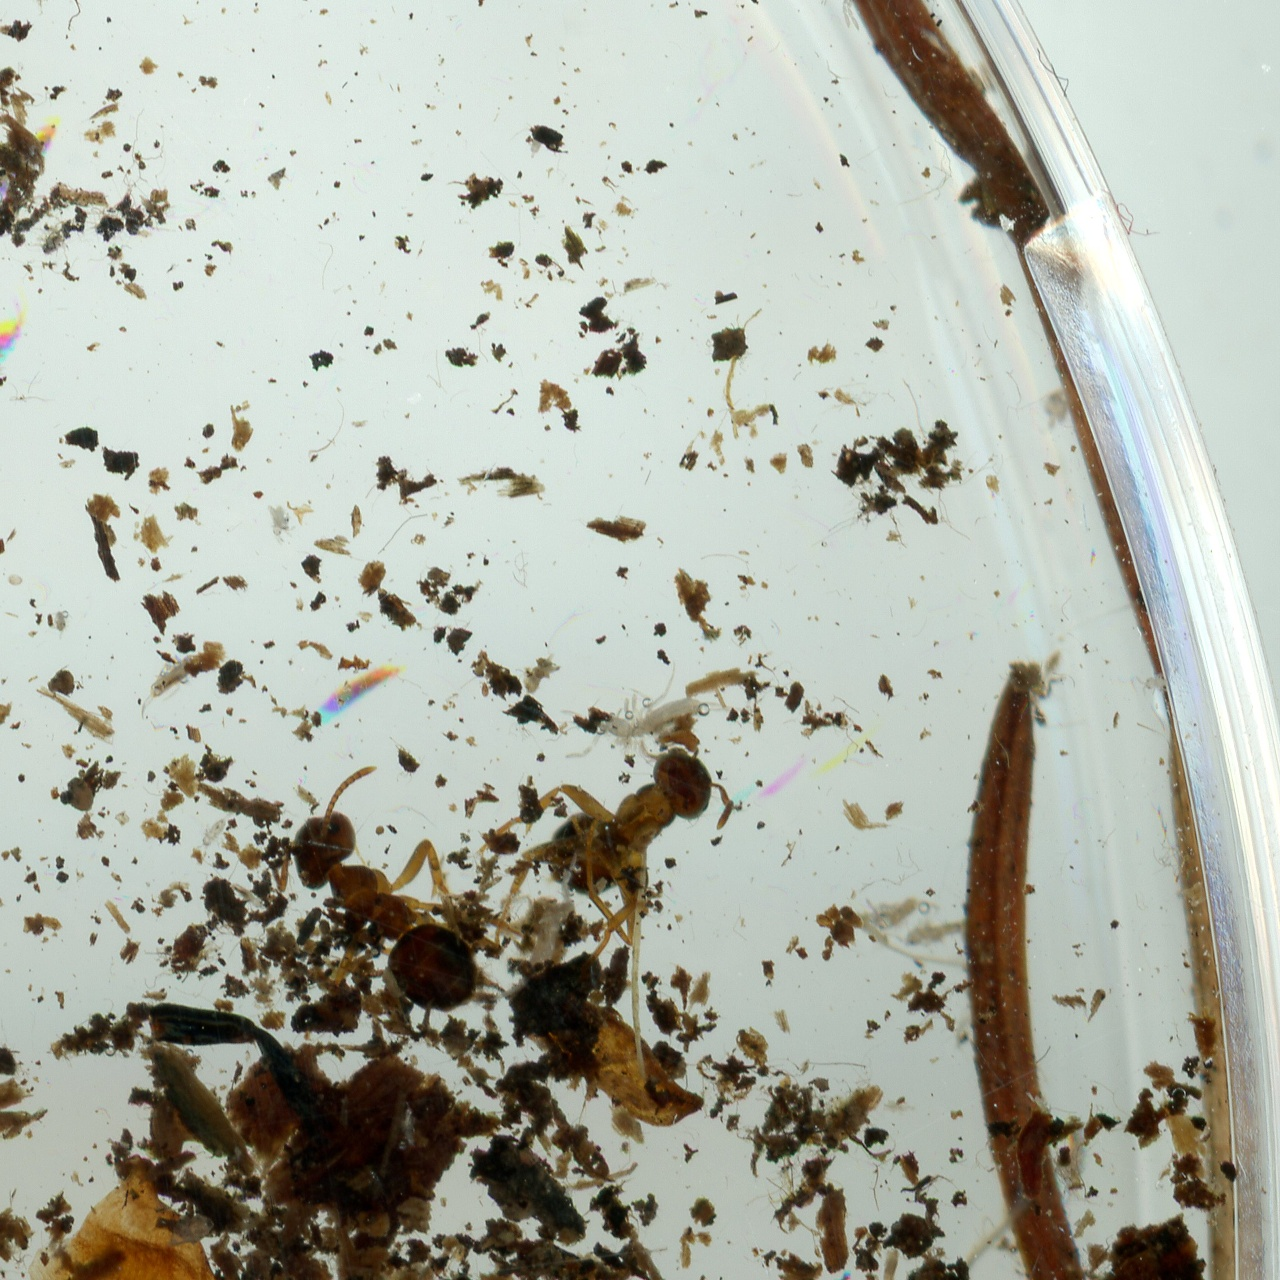arthropod: (226, 757, 533, 1075), (476, 690, 764, 979), (561, 659, 743, 764), (489, 847, 586, 1002), (122, 642, 207, 724), (803, 0, 890, 41), (189, 802, 243, 862), (863, 893, 940, 933), (884, 920, 965, 953), (261, 499, 300, 543), (0, 336, 15, 438), (457, 649, 490, 690), (1135, 672, 1170, 700), (270, 502, 288, 545), (50, 608, 72, 644), (477, 680, 495, 700)
